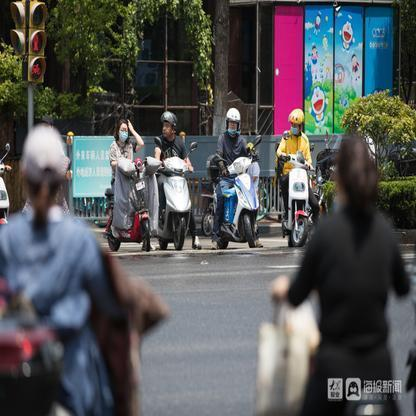target: (210, 106, 267, 250), (151, 110, 203, 254), (101, 114, 149, 251), (275, 106, 312, 247)
